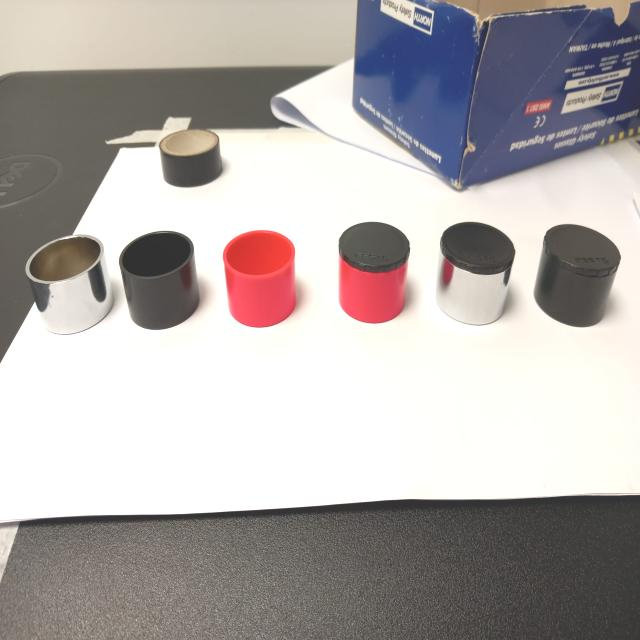NoLid: (16, 235, 116, 334), (217, 227, 305, 327), (115, 232, 205, 328)
Workpiece: (532, 215, 622, 334), (432, 216, 522, 332), (336, 218, 414, 325)
